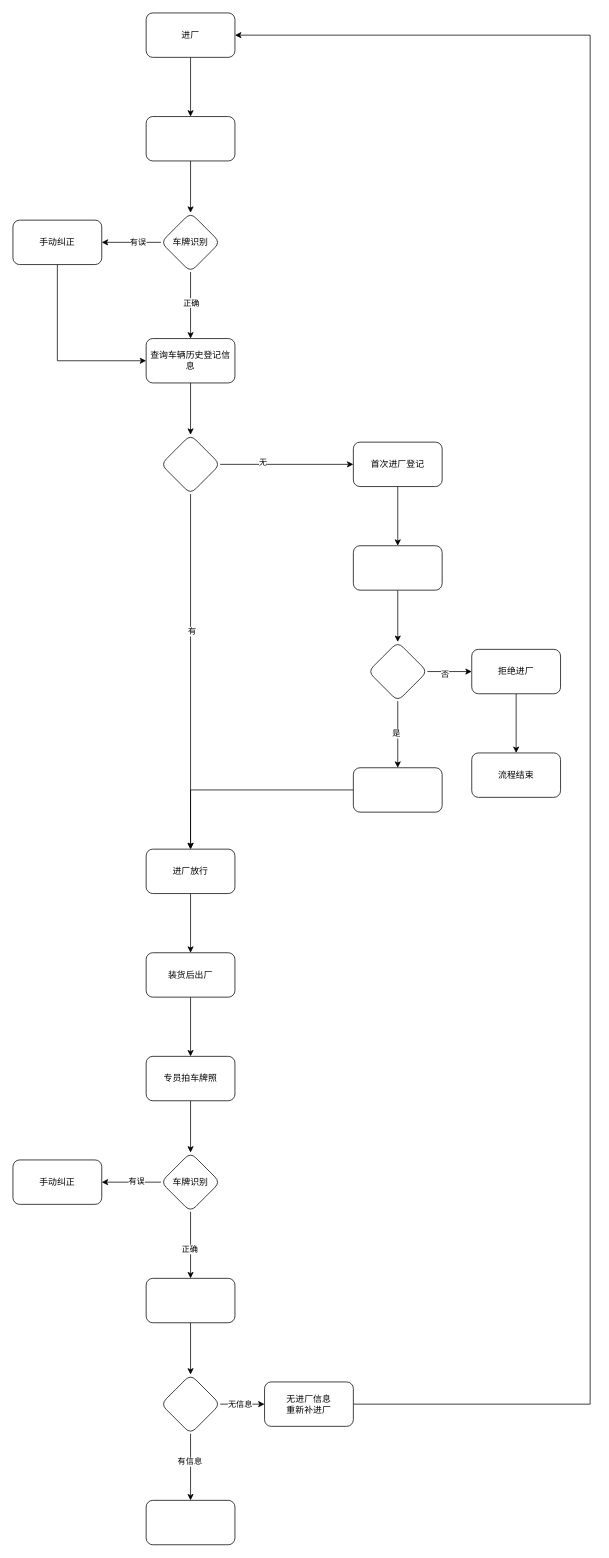
This 609x1558 diagram has some shape labels left out. Each missing label, with the box of its shape:
司机扫码查询环保: (353, 545, 442, 590)
国五及以上: (367, 641, 427, 701)
查询车辆进场信息: (145, 1278, 235, 1323)
登记信息: (160, 434, 220, 494)
进厂信息: (160, 1374, 220, 1434)
门卫拍照存档 绑定车牌与环保信息: (353, 767, 442, 812)
门卫拍车牌照: (145, 116, 235, 161)
